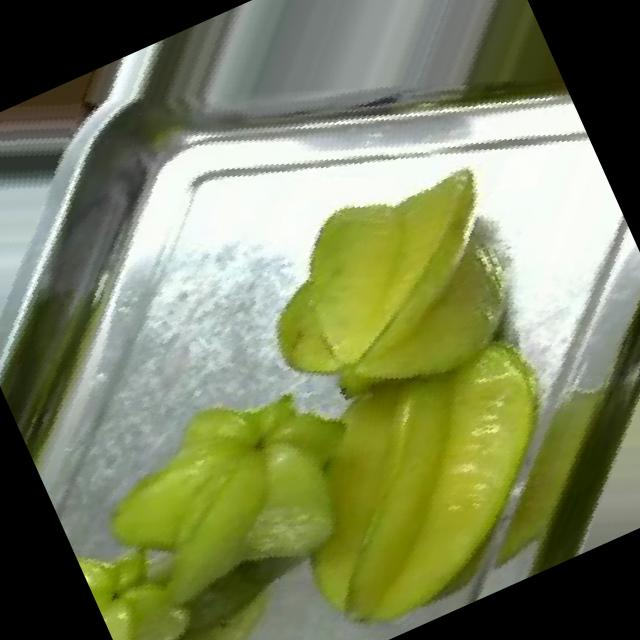fruit: (52, 108, 640, 640), (27, 290, 476, 640), (188, 104, 590, 488), (453, 276, 640, 570), (323, 0, 580, 187), (0, 46, 176, 223)
